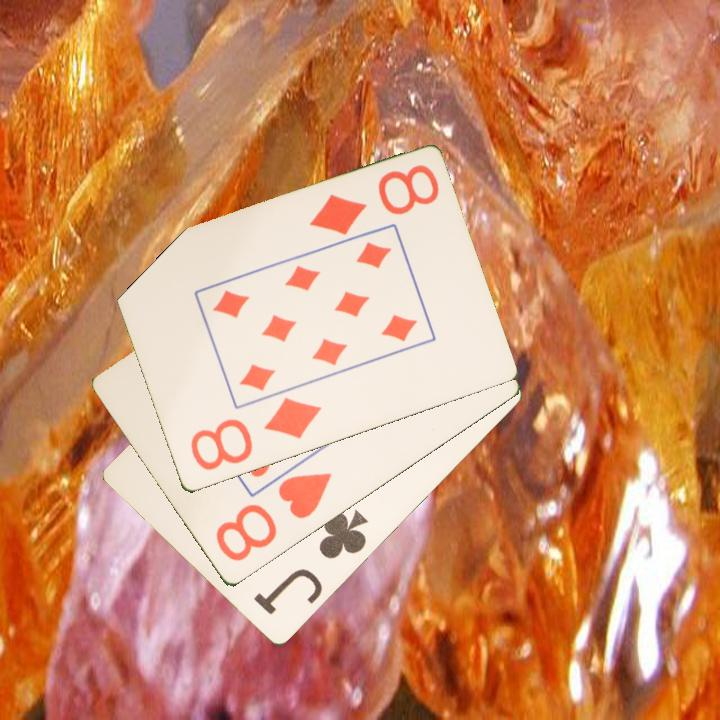8d: (186, 394, 324, 474), (305, 161, 442, 239)
8h: (211, 469, 335, 565)
Jc: (250, 507, 371, 619)
